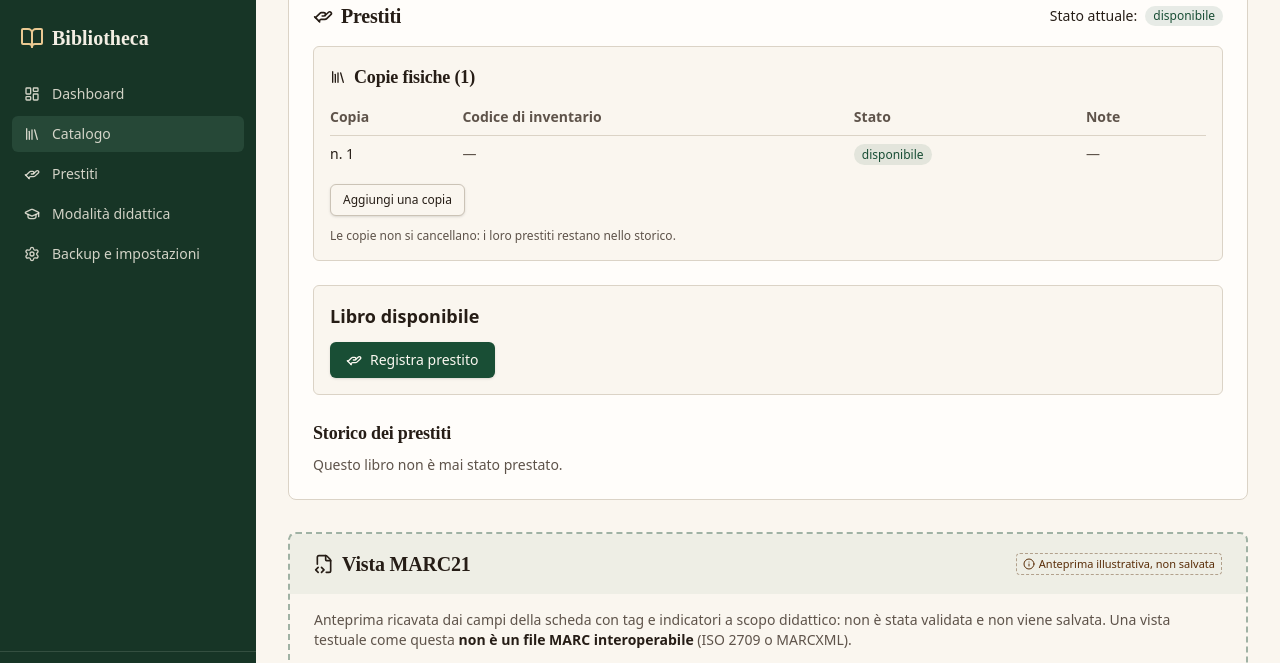
Test: Prestiti — scheda del libro › libro in prestito: stato, destinatario, date e «Registra restituzione»; nessuna possibilità di avviare un altro prestito
(page scrolled)
Step 1. Click the button "Registra prestito" → (412, 360), box [330,342,494,378]
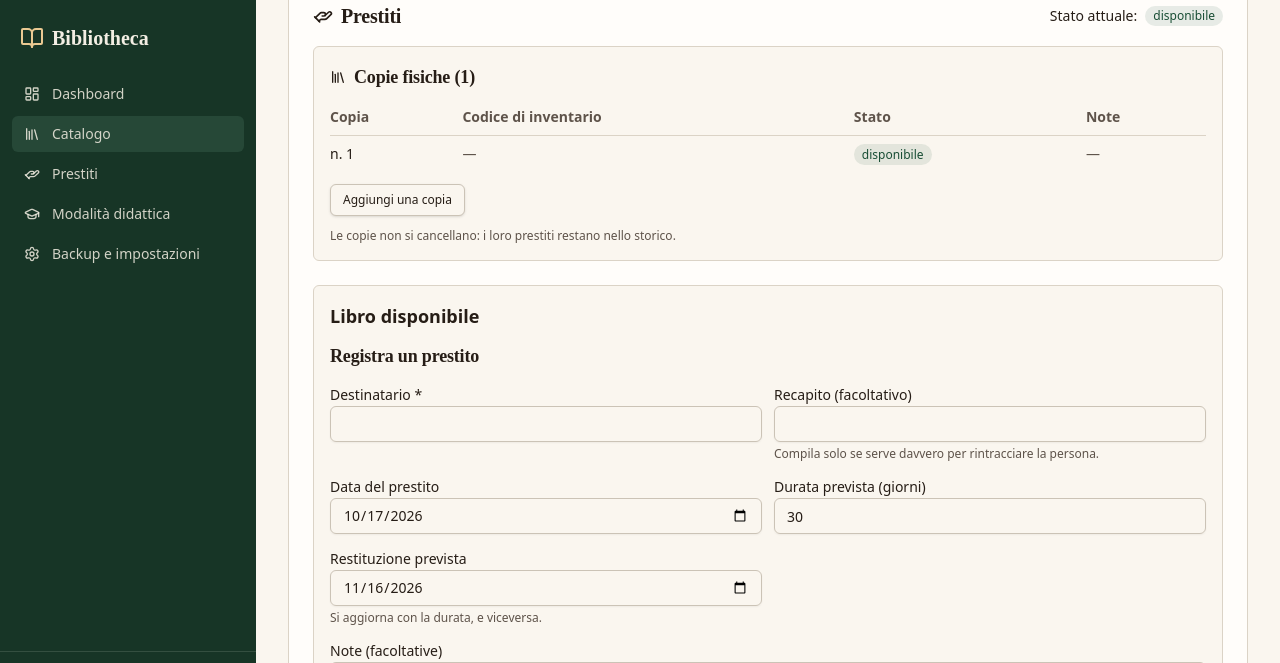
Step 2. Type "Luca Bianchi" into the field labelled "Destinatario *" → (546, 424), box [330,406,762,442]
(page scrolled)
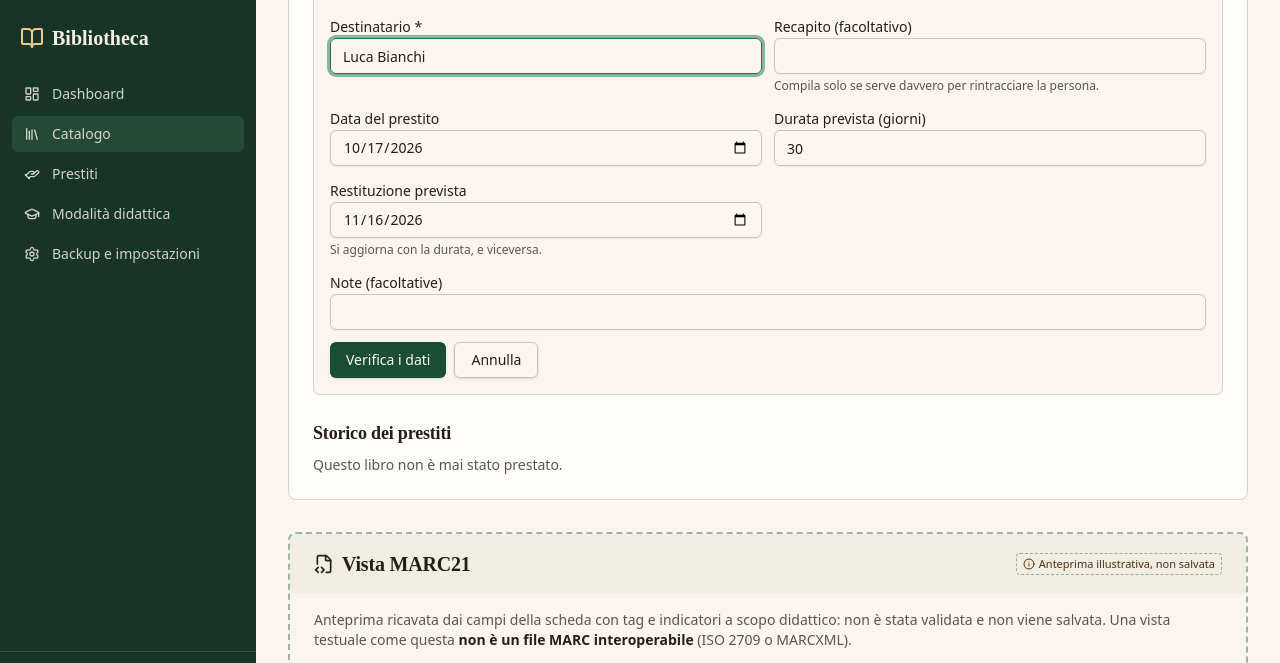
Step 3. Click the button "Verifica i dati" → (388, 360), box [330,342,446,378]
(page scrolled)
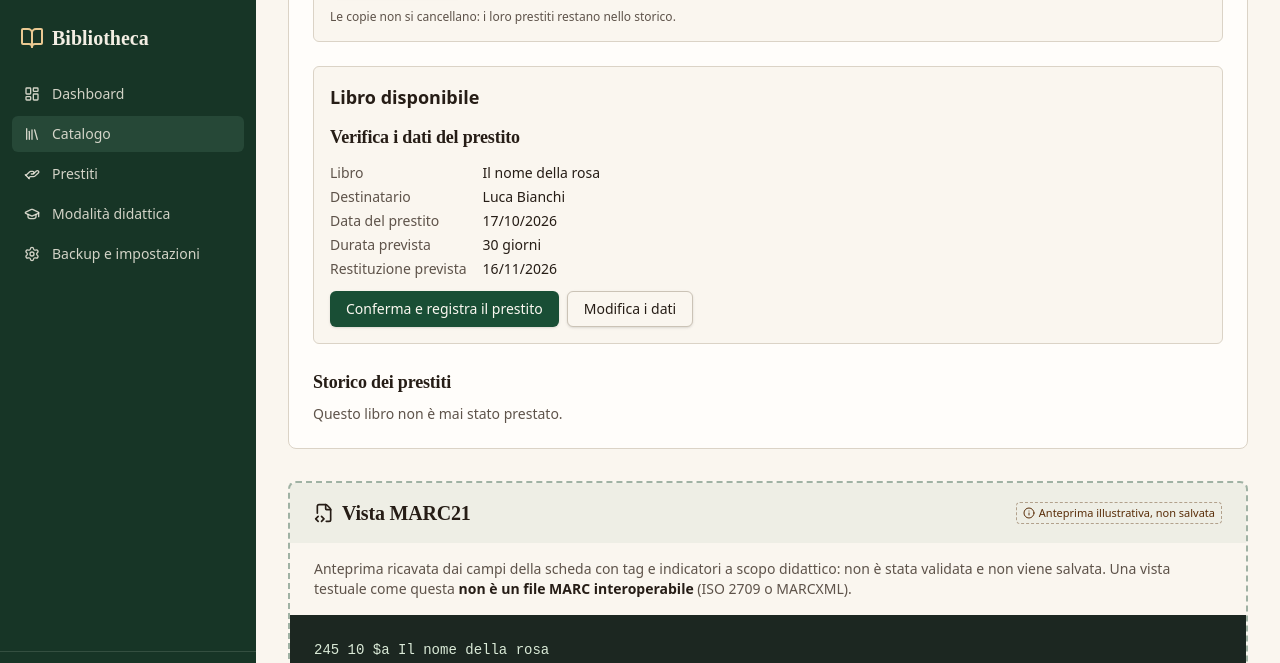
Step 4. Click the button "Conferma e registra il prestito" → (444, 309), box [330,291,559,327]
(page scrolled)
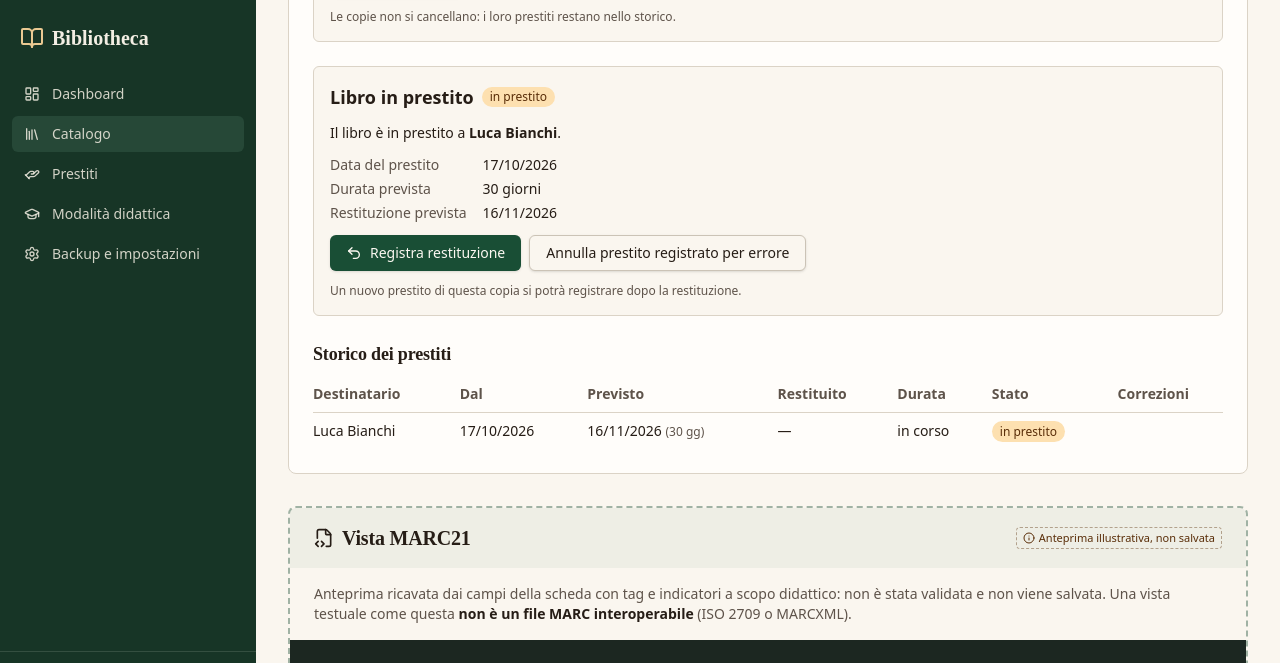
Expected: the text "Libro in prestito" is shown, [330,85,474,109]
Expected: the text "Il libro è in prestito a Luca Bianchi." is shown, [330,123,561,142]
Expected: the button "Registra restituzione" is shown
Step 5. Click the button "Registra restituzione" → (426, 253), box [330,235,521,271]
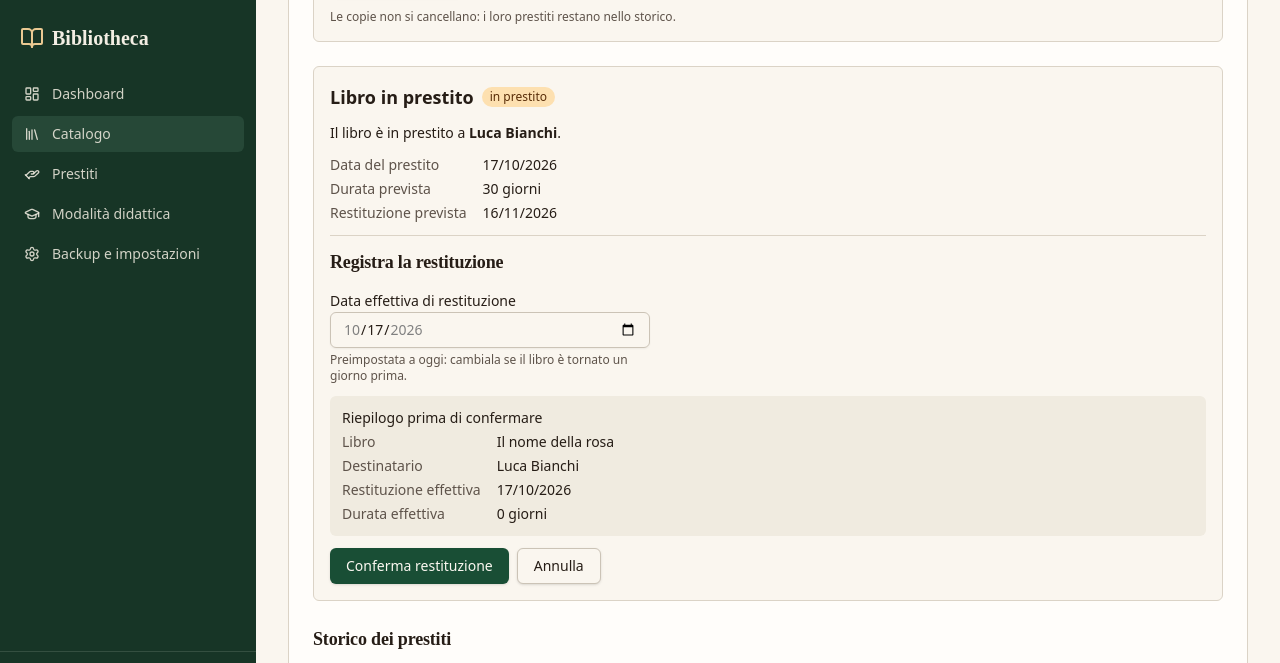
Expected: the text "Luca Bianchi" below "Riepilogo prima di confermare" is shown, [497,456,579,475]
Expected: the text "Il nome della rosa" is shown, [497,432,614,451]
Step 6. Click the button "Conferma restituzione" → (419, 566), box [330,548,509,584]
(page scrolled)
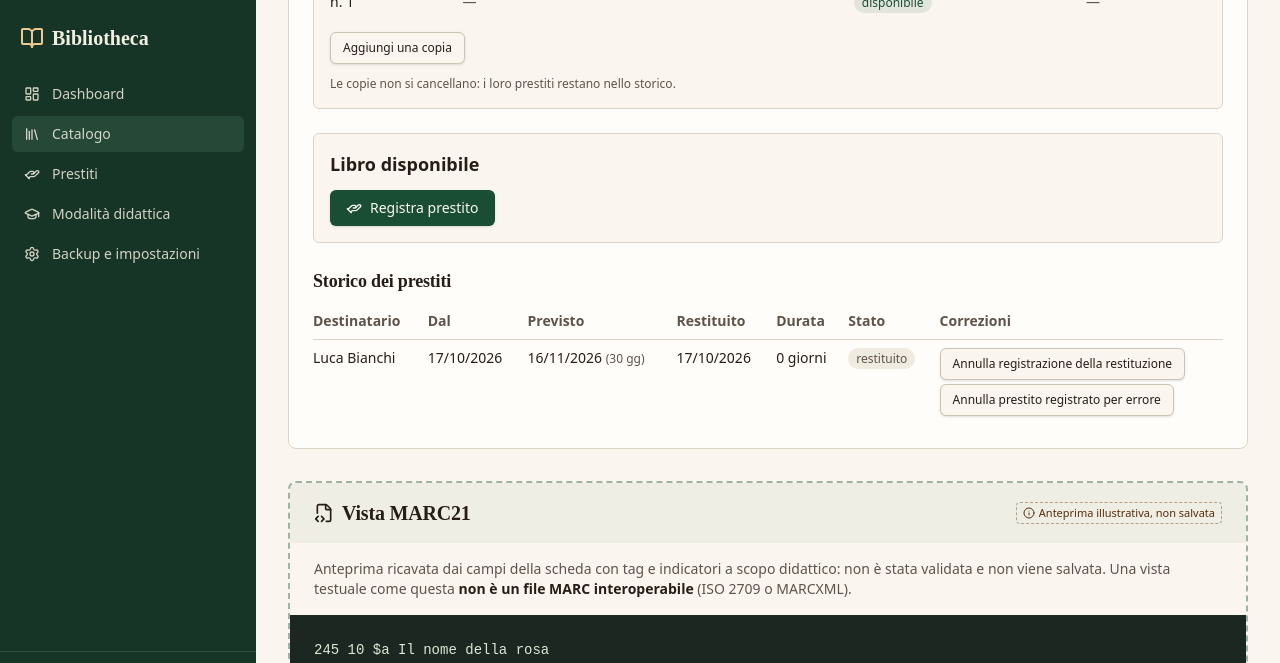
Expected: the text "restituito" is shown, [848,348,915,369]
Expected: the text "Libro disponibile" is shown, [330,152,479,176]
Expected: the button "Registra prestito" is shown, [330,190,494,226]
